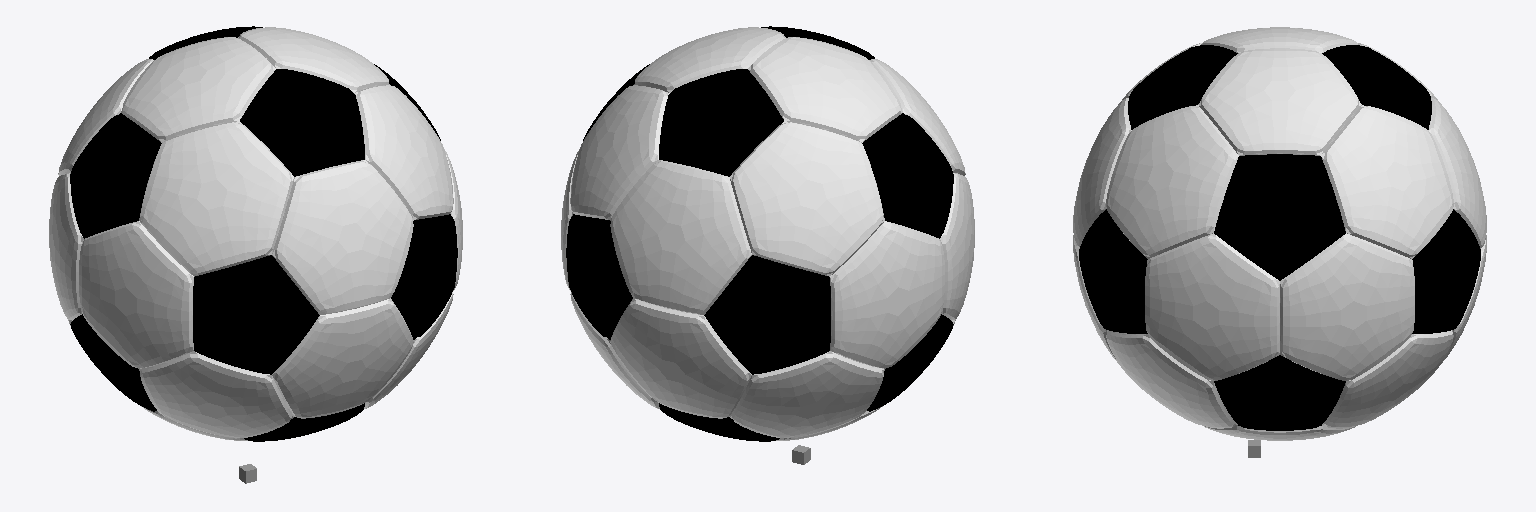
File: Football.obj
3 renders of one model, left to right at view 1: azimuth 30°, elevation 25°; view 2: azimuth 150°, elevation 25°; view 3: azimuth 270°, elevation 25°, orthographic.
Parts seen in each view (by area): view 1: Hedra01; view 2: Hedra01; view 3: Hedra01.
Part boxes in pixels (x1,y1,x2,y2): Hedra01: (49, 26, 462, 441); Hedra01: (561, 26, 974, 441); Hedra01: (1073, 27, 1486, 440).
Bounding box in the file's own units: 60.44 × 67.49 × 60.44.